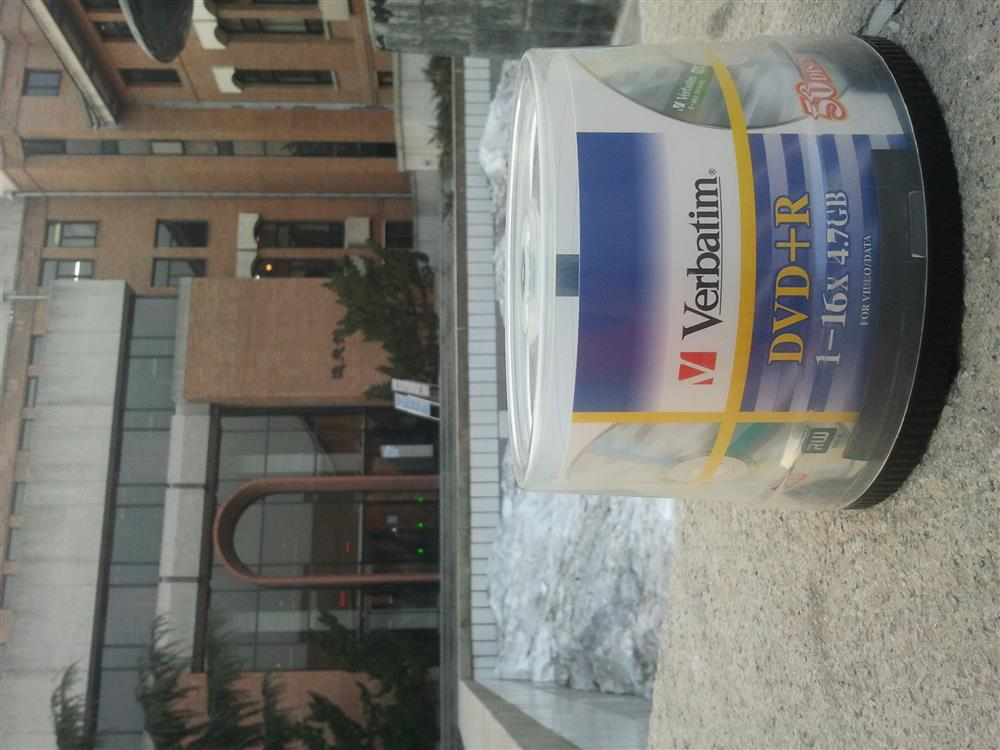Verbatim: (496, 38, 968, 534)
